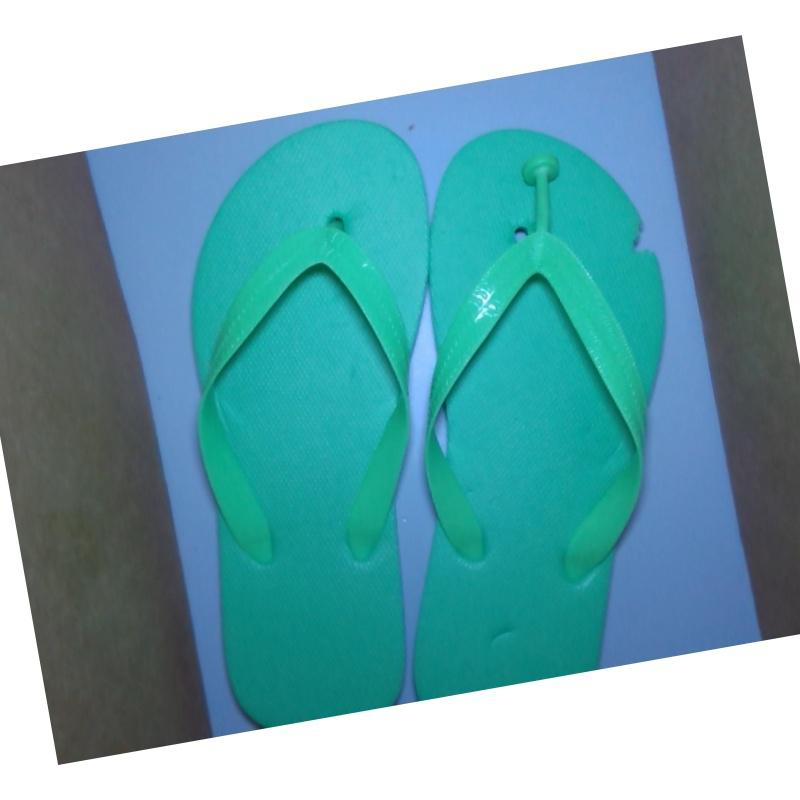chipped: (619, 200, 670, 274)
detached: (517, 143, 568, 212)
